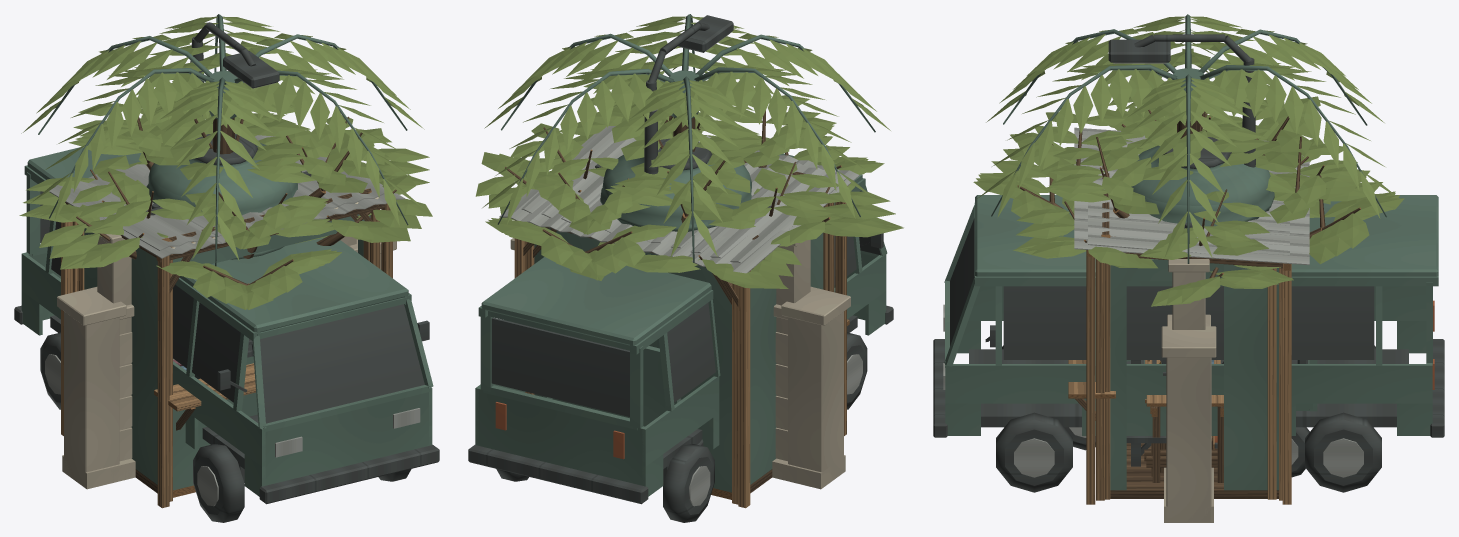
The picture shows the model from 3 angles, left to right: view 1: azimuth 30°, elevation 25°; view 2: azimuth 150°, elevation 25°; view 3: azimuth 270°, elevation 25°; orthographic projection.
Parts seen in each view (by area): view 1: minibus, palm, broadleaf-tree, acacia, kiosk, wall, canopy, water-tank, market-stall, gate, street-lamp; view 2: minibus, palm, broadleaf-tree, kiosk, acacia, wall, market-stall, canopy, water-tank, street-lamp, gate, three-wheeler; view 3: minibus, palm, kiosk, broadleaf-tree, acacia, market-stall, wall, water-tank, canopy, street-lamp, gate, three-wheeler.
Part boxes in pixels (box(x1,y1,x2,y2)): minibus: box(14, 147, 439, 522); palm: box(21, 14, 424, 266); broadleaf-tree: box(68, 81, 391, 258); acacia: box(19, 108, 432, 309); kiosk: box(49, 135, 405, 501); wall: box(57, 239, 396, 489); canopy: box(61, 197, 392, 508); water-tank: box(146, 134, 297, 379); market-stall: box(70, 156, 384, 370); gate: box(93, 233, 356, 482); street-lamp: box(190, 22, 279, 115); minibus: box(468, 153, 893, 522); palm: box(482, 14, 890, 262); broadleaf-tree: box(510, 71, 842, 234); kiosk: box(499, 131, 859, 504); acacia: box(475, 109, 903, 288); wall: box(510, 238, 850, 489); market-stall: box(521, 126, 846, 290); canopy: box(514, 186, 847, 508); water-tank: box(600, 138, 751, 231); street-lamp: box(644, 15, 733, 174); gate: box(772, 240, 810, 482); three-wheeler: box(558, 335, 703, 445); minibus: box(933, 195, 1444, 492); palm: box(976, 14, 1400, 263); kiosk: box(1068, 127, 1309, 500); broadleaf-tree: box(1010, 85, 1367, 259); acacia: box(973, 107, 1404, 306); market-stall: box(1088, 128, 1289, 499); wall: box(1161, 314, 1216, 522); water-tank: box(1131, 137, 1274, 466); canopy: box(1086, 250, 1291, 504); street-lamp: box(1108, 34, 1255, 167); gate: box(1168, 259, 1209, 329); three-wheeler: box(1064, 360, 1318, 477).
Bounding box in the file's own units: 3.93 × 3.83 × 4.3.
Materials: 1 (1 with a texture image).
